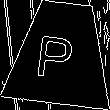P_N: (40, 26, 83, 80)
